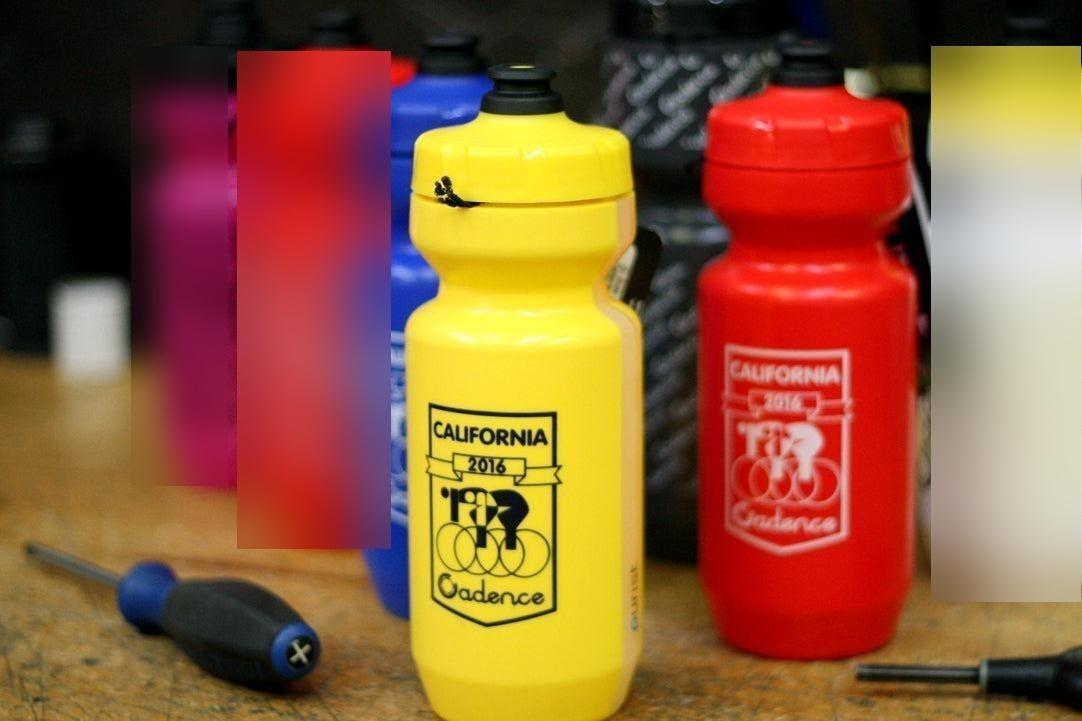gym bottle: (397, 52, 655, 720), (687, 26, 925, 673)
